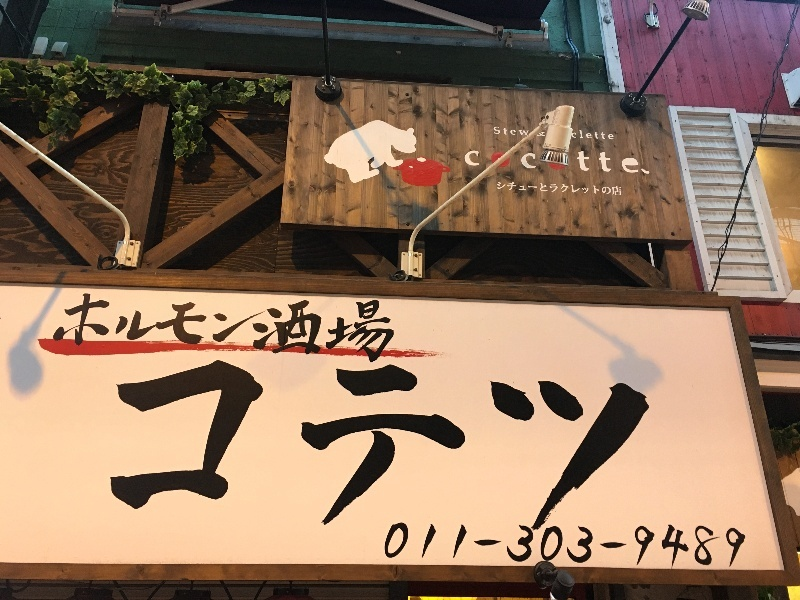text: (129, 357, 144, 531), (145, 357, 160, 531), (161, 357, 176, 531), (177, 357, 192, 531), (193, 357, 208, 531), (209, 357, 224, 531), (225, 357, 240, 531), (241, 357, 256, 531), (257, 357, 272, 531), (273, 357, 288, 531), (289, 357, 304, 531), (305, 357, 320, 531), (321, 357, 336, 531), (337, 357, 352, 531), (353, 357, 368, 531), (369, 357, 384, 531), (385, 357, 400, 531), (401, 357, 416, 531), (417, 357, 432, 531), (433, 357, 448, 531), (449, 357, 464, 531), (465, 357, 480, 531), (481, 357, 496, 531), (497, 357, 512, 531), (513, 357, 528, 531), (529, 357, 544, 531), (545, 357, 560, 531), (561, 357, 576, 531), (577, 357, 592, 531), (593, 357, 608, 531), (609, 357, 624, 531), (625, 357, 640, 531), (641, 357, 656, 531), (118, 357, 128, 531), (657, 357, 667, 531), (81, 293, 96, 364), (97, 293, 112, 364), (113, 293, 128, 364), (129, 293, 144, 364), (145, 293, 160, 364), (161, 293, 176, 364), (177, 293, 192, 364), (193, 293, 208, 364), (209, 293, 224, 364), (225, 293, 240, 364), (241, 293, 256, 364), (257, 293, 272, 364), (273, 293, 288, 364), (289, 293, 304, 364), (305, 293, 320, 364), (321, 293, 336, 364), (337, 293, 352, 364), (353, 293, 368, 364), (369, 293, 384, 364), (385, 293, 395, 364), (401, 524, 416, 568), (417, 524, 432, 568), (433, 524, 448, 568), (449, 524, 464, 568), (465, 524, 480, 568), (481, 524, 496, 568), (497, 524, 512, 568), (513, 524, 528, 568), (529, 524, 544, 568), (545, 524, 560, 568), (561, 524, 576, 568), (577, 524, 592, 568), (593, 524, 608, 568), (609, 524, 624, 568), (625, 524, 640, 568), (641, 524, 656, 568), (657, 524, 672, 568), (673, 524, 688, 568), (689, 524, 704, 568), (705, 524, 720, 568), (721, 524, 736, 568), (71, 293, 80, 364), (737, 524, 748, 568), (391, 524, 400, 568), (577, 152, 592, 176), (593, 152, 608, 176), (609, 152, 624, 176), (625, 152, 640, 176), (466, 148, 480, 167), (641, 152, 651, 176), (497, 181, 512, 196), (513, 181, 528, 196), (529, 181, 544, 196), (545, 181, 560, 196), (561, 181, 576, 196), (577, 181, 592, 196), (593, 181, 608, 196), (609, 181, 623, 196), (577, 130, 592, 141), (593, 130, 608, 141), (529, 151, 537, 171), (497, 126, 512, 136), (513, 126, 528, 136), (523, 151, 528, 171), (609, 130, 615, 141), (538, 131, 544, 137), (493, 126, 496, 136), (575, 152, 576, 176), (574, 130, 576, 141), (529, 126, 530, 136), (545, 131, 546, 137)
